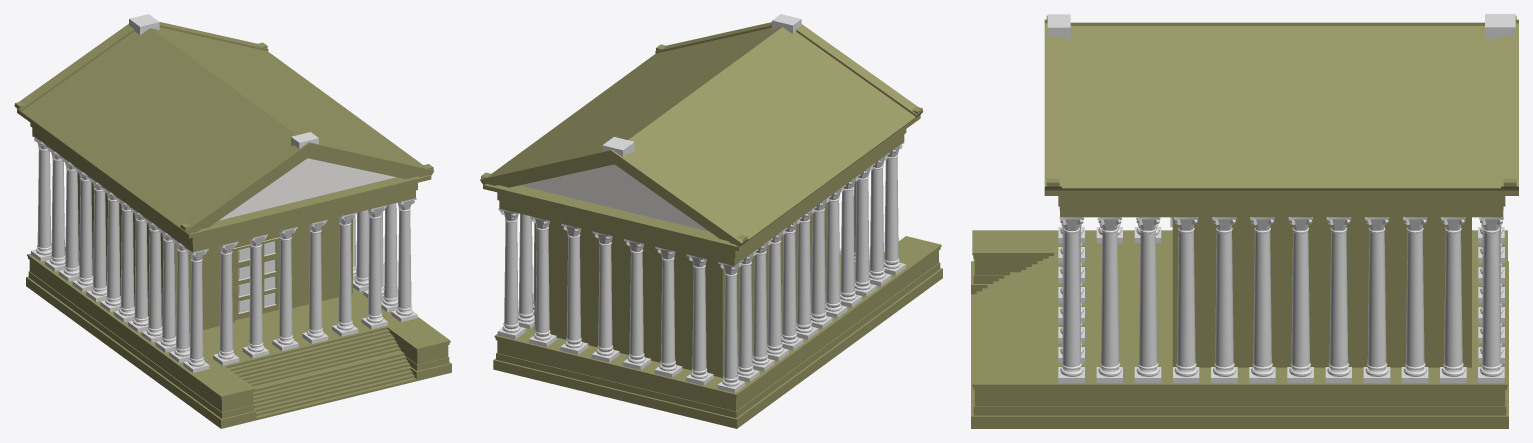
The picture shows the model from 3 angles, left to right: view 1: azimuth 30°, elevation 25°; view 2: azimuth 150°, elevation 25°; view 3: azimuth 270°, elevation 25°; orthographic projection. The views are drawn at different scales.
Parts seen in each view (by area): view 1: Component#4_001, Layer0_001, Component#1_001, Component#4_002, Component#1_002, Group_026, Group_011, Group_016, Group_036, Group_031, Group_006, Group_001 (+15 smaller); view 2: Component#4_001, Layer0_001, Component#4_002, Component#1_001, Component#1_002, Group_176, Group_171, Group_156, Group_151, Group_146, Group_071, Group_161 (+14 smaller); view 3: Component#4_002, Layer0_001, Component#1_002, Component#1_001, Group_146, Group_121, Group_101, Group_111, Group_126, Group_096, Group_131, Group_116 (+7 smaller).
Part boxes in pixels (x1=…): Component#4_001: x1=14, y1=24, x2=310, y2=234; Layer0_001: x1=17, y1=109, x2=431, y2=336; Component#1_001: x1=26, y1=251, x2=336, y2=428; Component#4_002: x1=151, y1=22, x2=433, y2=199; Component#1_002: x1=262, y1=279, x2=451, y2=400; Group_026: x1=336, y1=222, x2=353, y2=330; Group_011: x1=247, y1=244, x2=264, y2=352; Group_016: x1=277, y1=237, x2=294, y2=344; Group_036: x1=396, y1=208, x2=412, y2=315; Group_031: x1=366, y1=215, x2=383, y2=323; Group_006: x1=218, y1=251, x2=234, y2=359; Group_001: x1=188, y1=259, x2=204, y2=366; Component#4_001: x1=611, y1=24, x2=923, y2=246; Layer0_001: x1=483, y1=114, x2=920, y2=377; Component#4_002: x1=480, y1=22, x2=781, y2=209; Component#1_001: x1=615, y1=236, x2=942, y2=428; Component#1_002: x1=493, y1=326, x2=628, y2=398; Group_176: x1=533, y1=226, x2=551, y2=340; Group_171: x1=627, y1=249, x2=645, y2=363; Group_156: x1=690, y1=265, x2=708, y2=378; Group_151: x1=596, y1=242, x2=614, y2=355; Group_146: x1=502, y1=219, x2=520, y2=332; Group_071: x1=781, y1=230, x2=798, y2=343; Group_161: x1=659, y1=257, x2=676, y2=371; Component#4_002: x1=1044, y1=23, x2=1518, y2=190; Layer0_001: x1=1044, y1=190, x2=1518, y2=367; Component#1_002: x1=971, y1=307, x2=1508, y2=428; Component#1_001: x1=971, y1=230, x2=1508, y2=348; Group_146: x1=1480, y1=227, x2=1503, y2=376; Group_121: x1=1251, y1=227, x2=1274, y2=376; Group_101: x1=1213, y1=227, x2=1235, y2=376; Group_111: x1=1441, y1=227, x2=1464, y2=376; Group_126: x1=1174, y1=227, x2=1197, y2=376; Group_096: x1=1289, y1=227, x2=1312, y2=376; Group_131: x1=1403, y1=227, x2=1426, y2=376; Group_116: x1=1098, y1=227, x2=1121, y2=376.
Bounding box in the file's own units: 881 × 814 × 1222.
